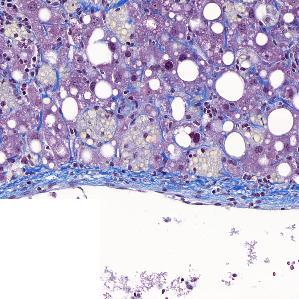fibrosis: (80, 160, 208, 196)
